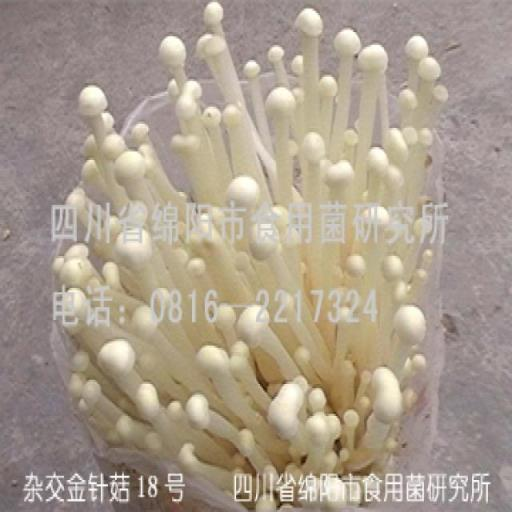Enoki Mushroom: (54, 2, 450, 509)
